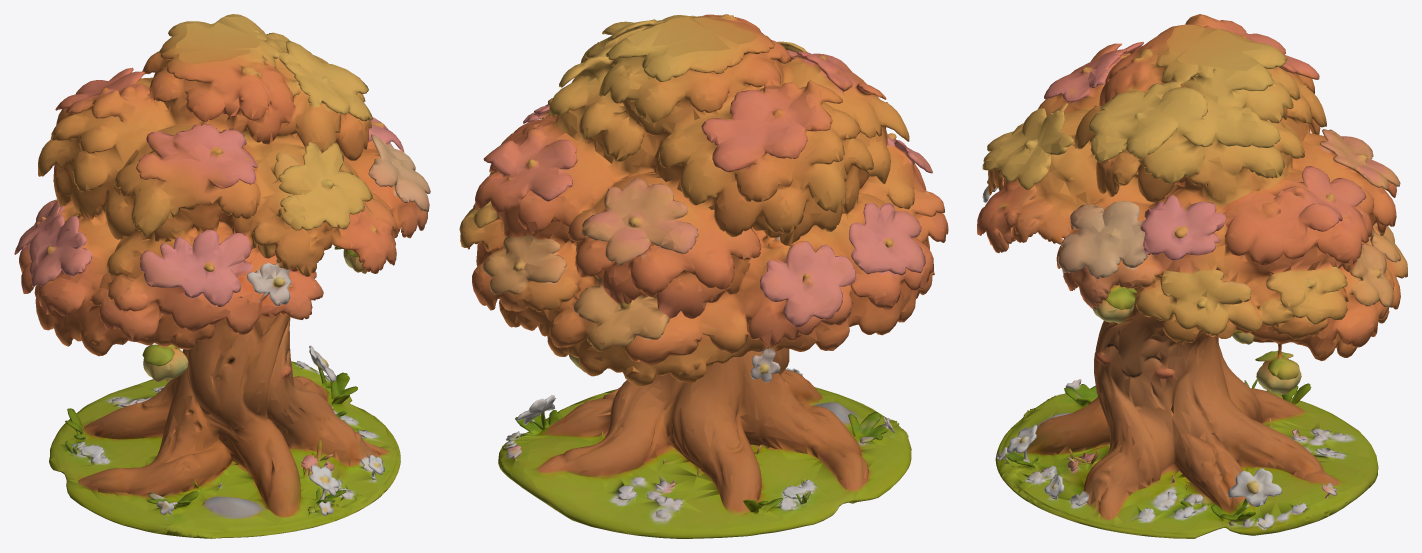
File: tripo_convert_236fc91b-5f3d-4b59-a57a-33b9912f2d0a.fbx
3 renders of one model, left to right at view 1: azimuth 30°, elevation 25°; view 2: azimuth 150°, elevation 25°; view 3: azimuth 270°, elevation 25°, orthographic. The views are drawn at different scales.
Parts seen in each view (by area): view 1: tripo_node_236fc91b; view 2: tripo_node_236fc91b; view 3: tripo_node_236fc91b.
Boxes of the visible parts, x1=… form: tripo_node_236fc91b: x1=14, y1=14, x2=430, y2=538; tripo_node_236fc91b: x1=459, y1=14, x2=948, y2=538; tripo_node_236fc91b: x1=977, y1=14, x2=1407, y2=538.
Size of the model in its own units: 97.8 by 91.84 by 98.09.
Materials: 1 (1 with a texture image).
